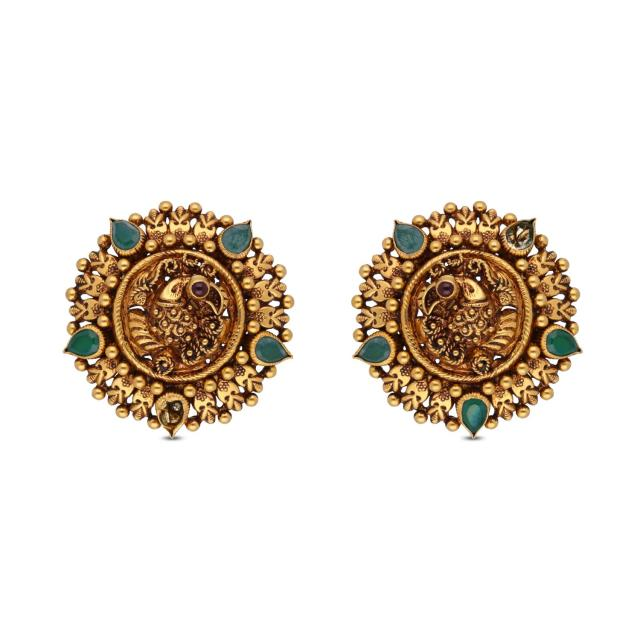missing gem: (159, 398, 184, 432), (506, 221, 534, 250)
